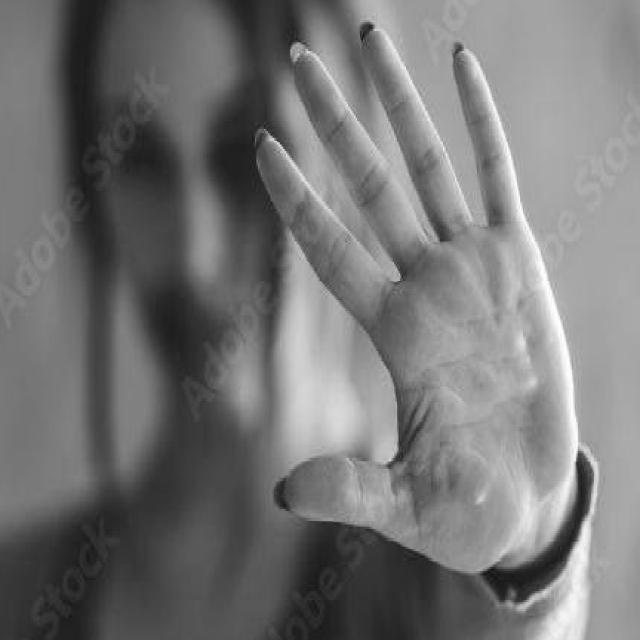stop: (247, 10, 584, 588)
